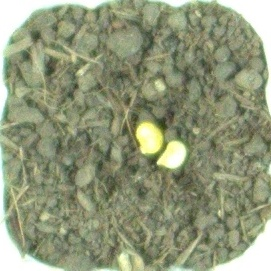chilli seed: (134, 119, 164, 155), (155, 139, 188, 171)
